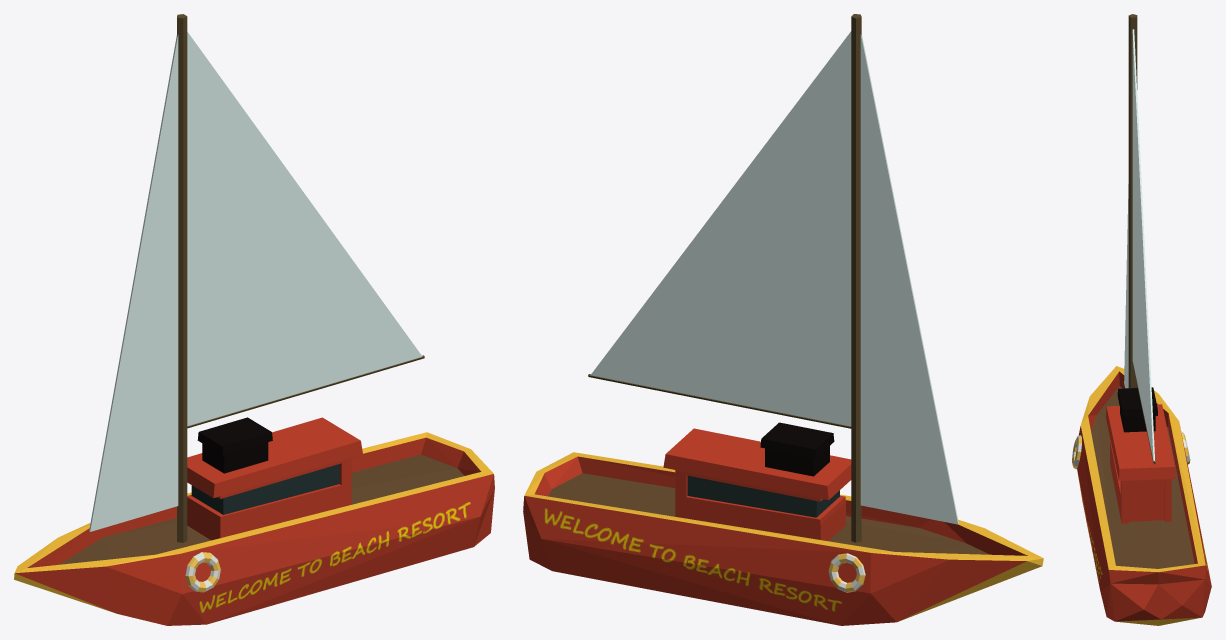
File: Yacht_D.fbx
3 views of the same model, side by side, from view 1: azimuth 30°, elevation 25°; view 2: azimuth 150°, elevation 25°; view 3: azimuth 270°, elevation 25° (orthographic). The views are drawn at different scales.
Visible parts, largest first — view 1: Yacht_D; view 2: Yacht_D; view 3: Yacht_D.
Part boxes in pixels (left/top/right/bottom): Yacht_D: left=14, top=14, right=494, bottom=625; Yacht_D: left=523, top=14, right=1043, bottom=625; Yacht_D: left=1072, top=14, right=1211, bottom=625.
Bounding box in the file's own units: 685 × 799 × 205.
